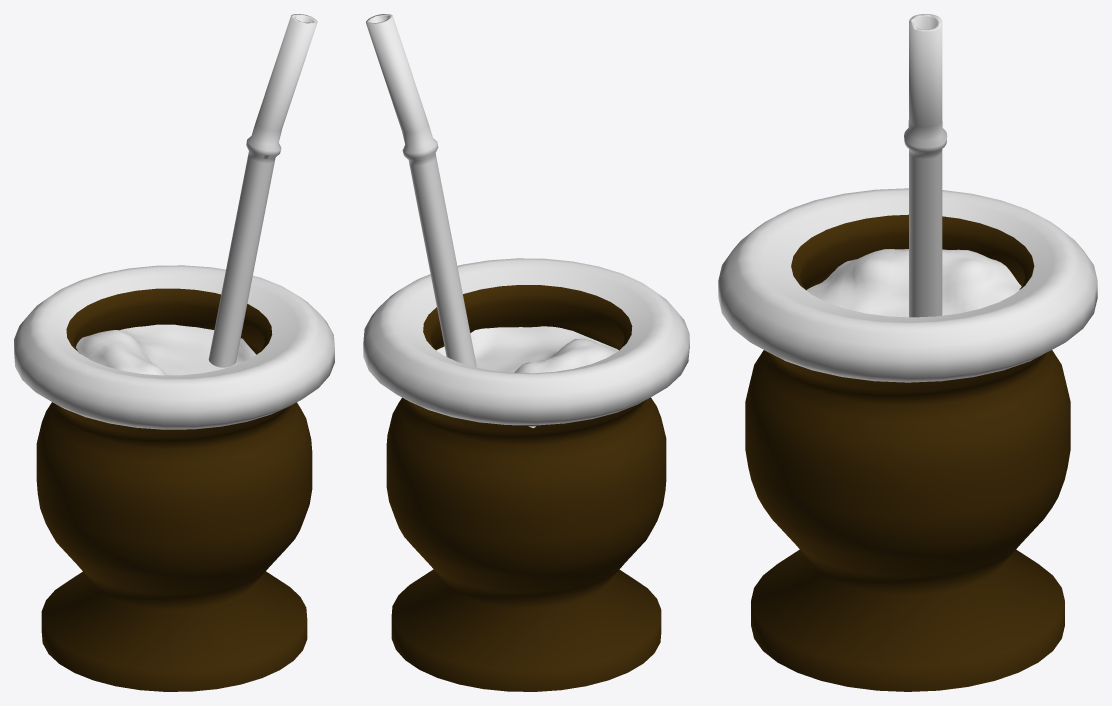
Rendered from Mate.fbx.
3 renders of one model, left to right at view 1: azimuth 30°, elevation 25°; view 2: azimuth 150°, elevation 25°; view 3: azimuth 270°, elevation 25°, orthographic. The views are drawn at different scales.
Visible parts, largest first — view 1: Plane.001; view 2: Plane.001; view 3: Plane.001.
Boxes of the visible parts, bbox=[...] form: Plane.001: bbox=[14, 14, 334, 691]; Plane.001: bbox=[363, 14, 689, 691]; Plane.001: bbox=[718, 14, 1097, 691].
Size of the model in its own units: 228 by 440 by 221.
